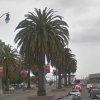Palm tree: (13, 5, 71, 95)
